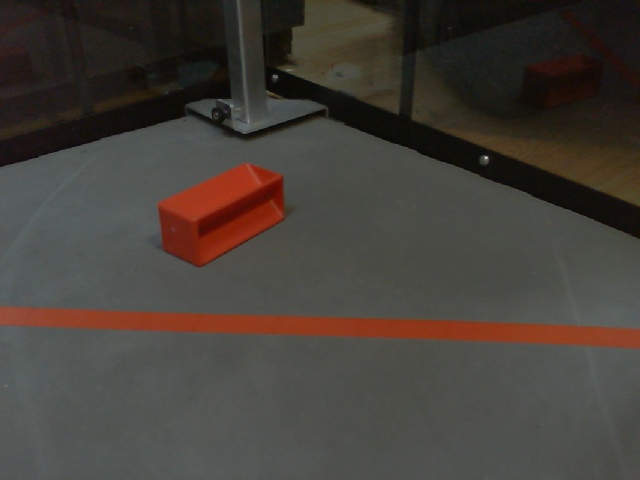RedSample: (158, 162, 289, 270)
